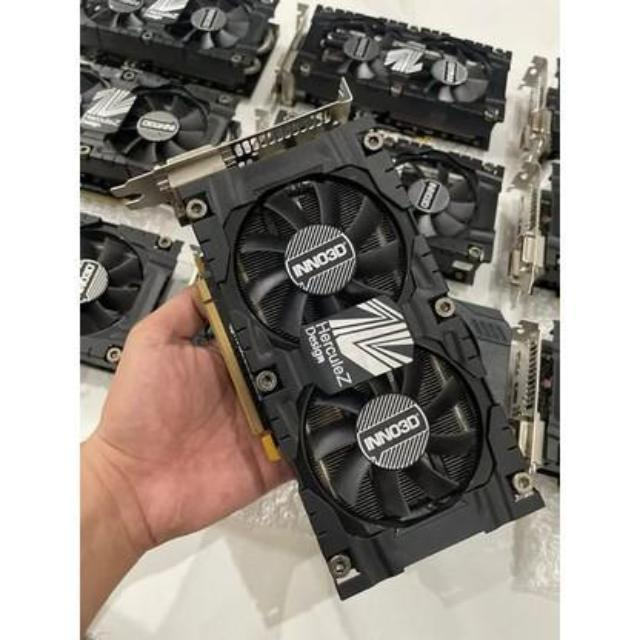GPU: (166, 88, 540, 610)
